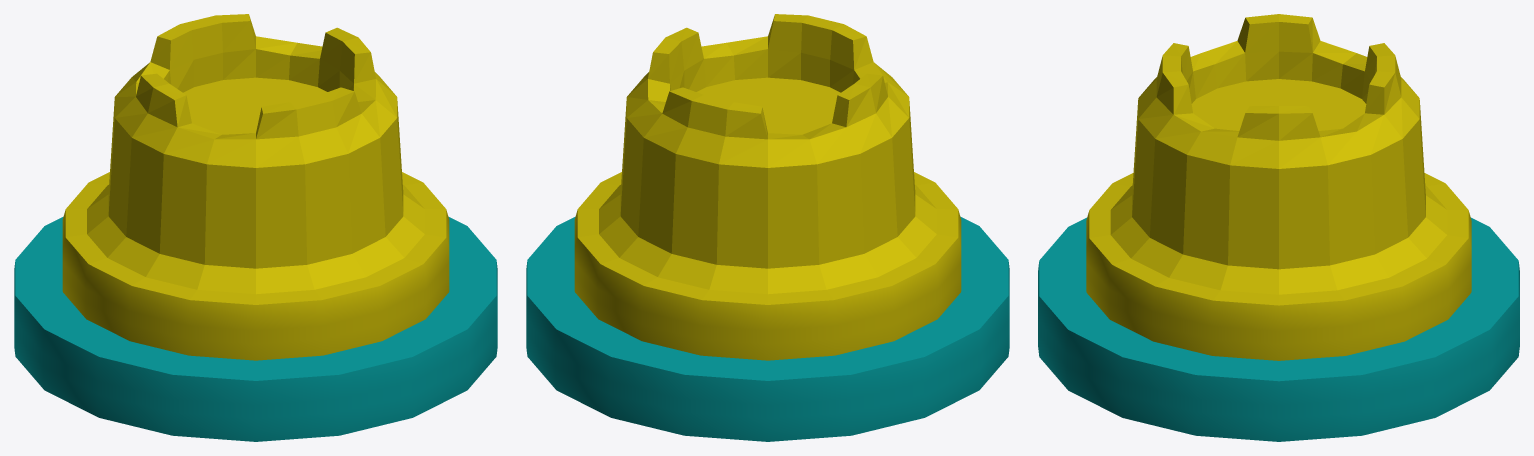
File: FYP_GeneratorTop&Bottom.FBX
The picture shows the model from 3 angles, left to right: view 1: azimuth 30°, elevation 25°; view 2: azimuth 150°, elevation 25°; view 3: azimuth 270°, elevation 25°; orthographic projection.
Visible parts, largest first — view 1: GeneratorTop, GeneratorBottom; view 2: GeneratorTop, GeneratorBottom; view 3: GeneratorTop, GeneratorBottom.
Boxes of the visible parts, bbox=[...] form: GeneratorTop: bbox=[62, 14, 449, 360]; GeneratorBottom: bbox=[14, 216, 497, 441]; GeneratorTop: bbox=[574, 14, 961, 360]; GeneratorBottom: bbox=[526, 216, 1009, 441]; GeneratorTop: bbox=[1086, 14, 1471, 360]; GeneratorBottom: bbox=[1038, 217, 1519, 441].
Bounding box in the file's own units: 6.81 × 4.23 × 6.71.
